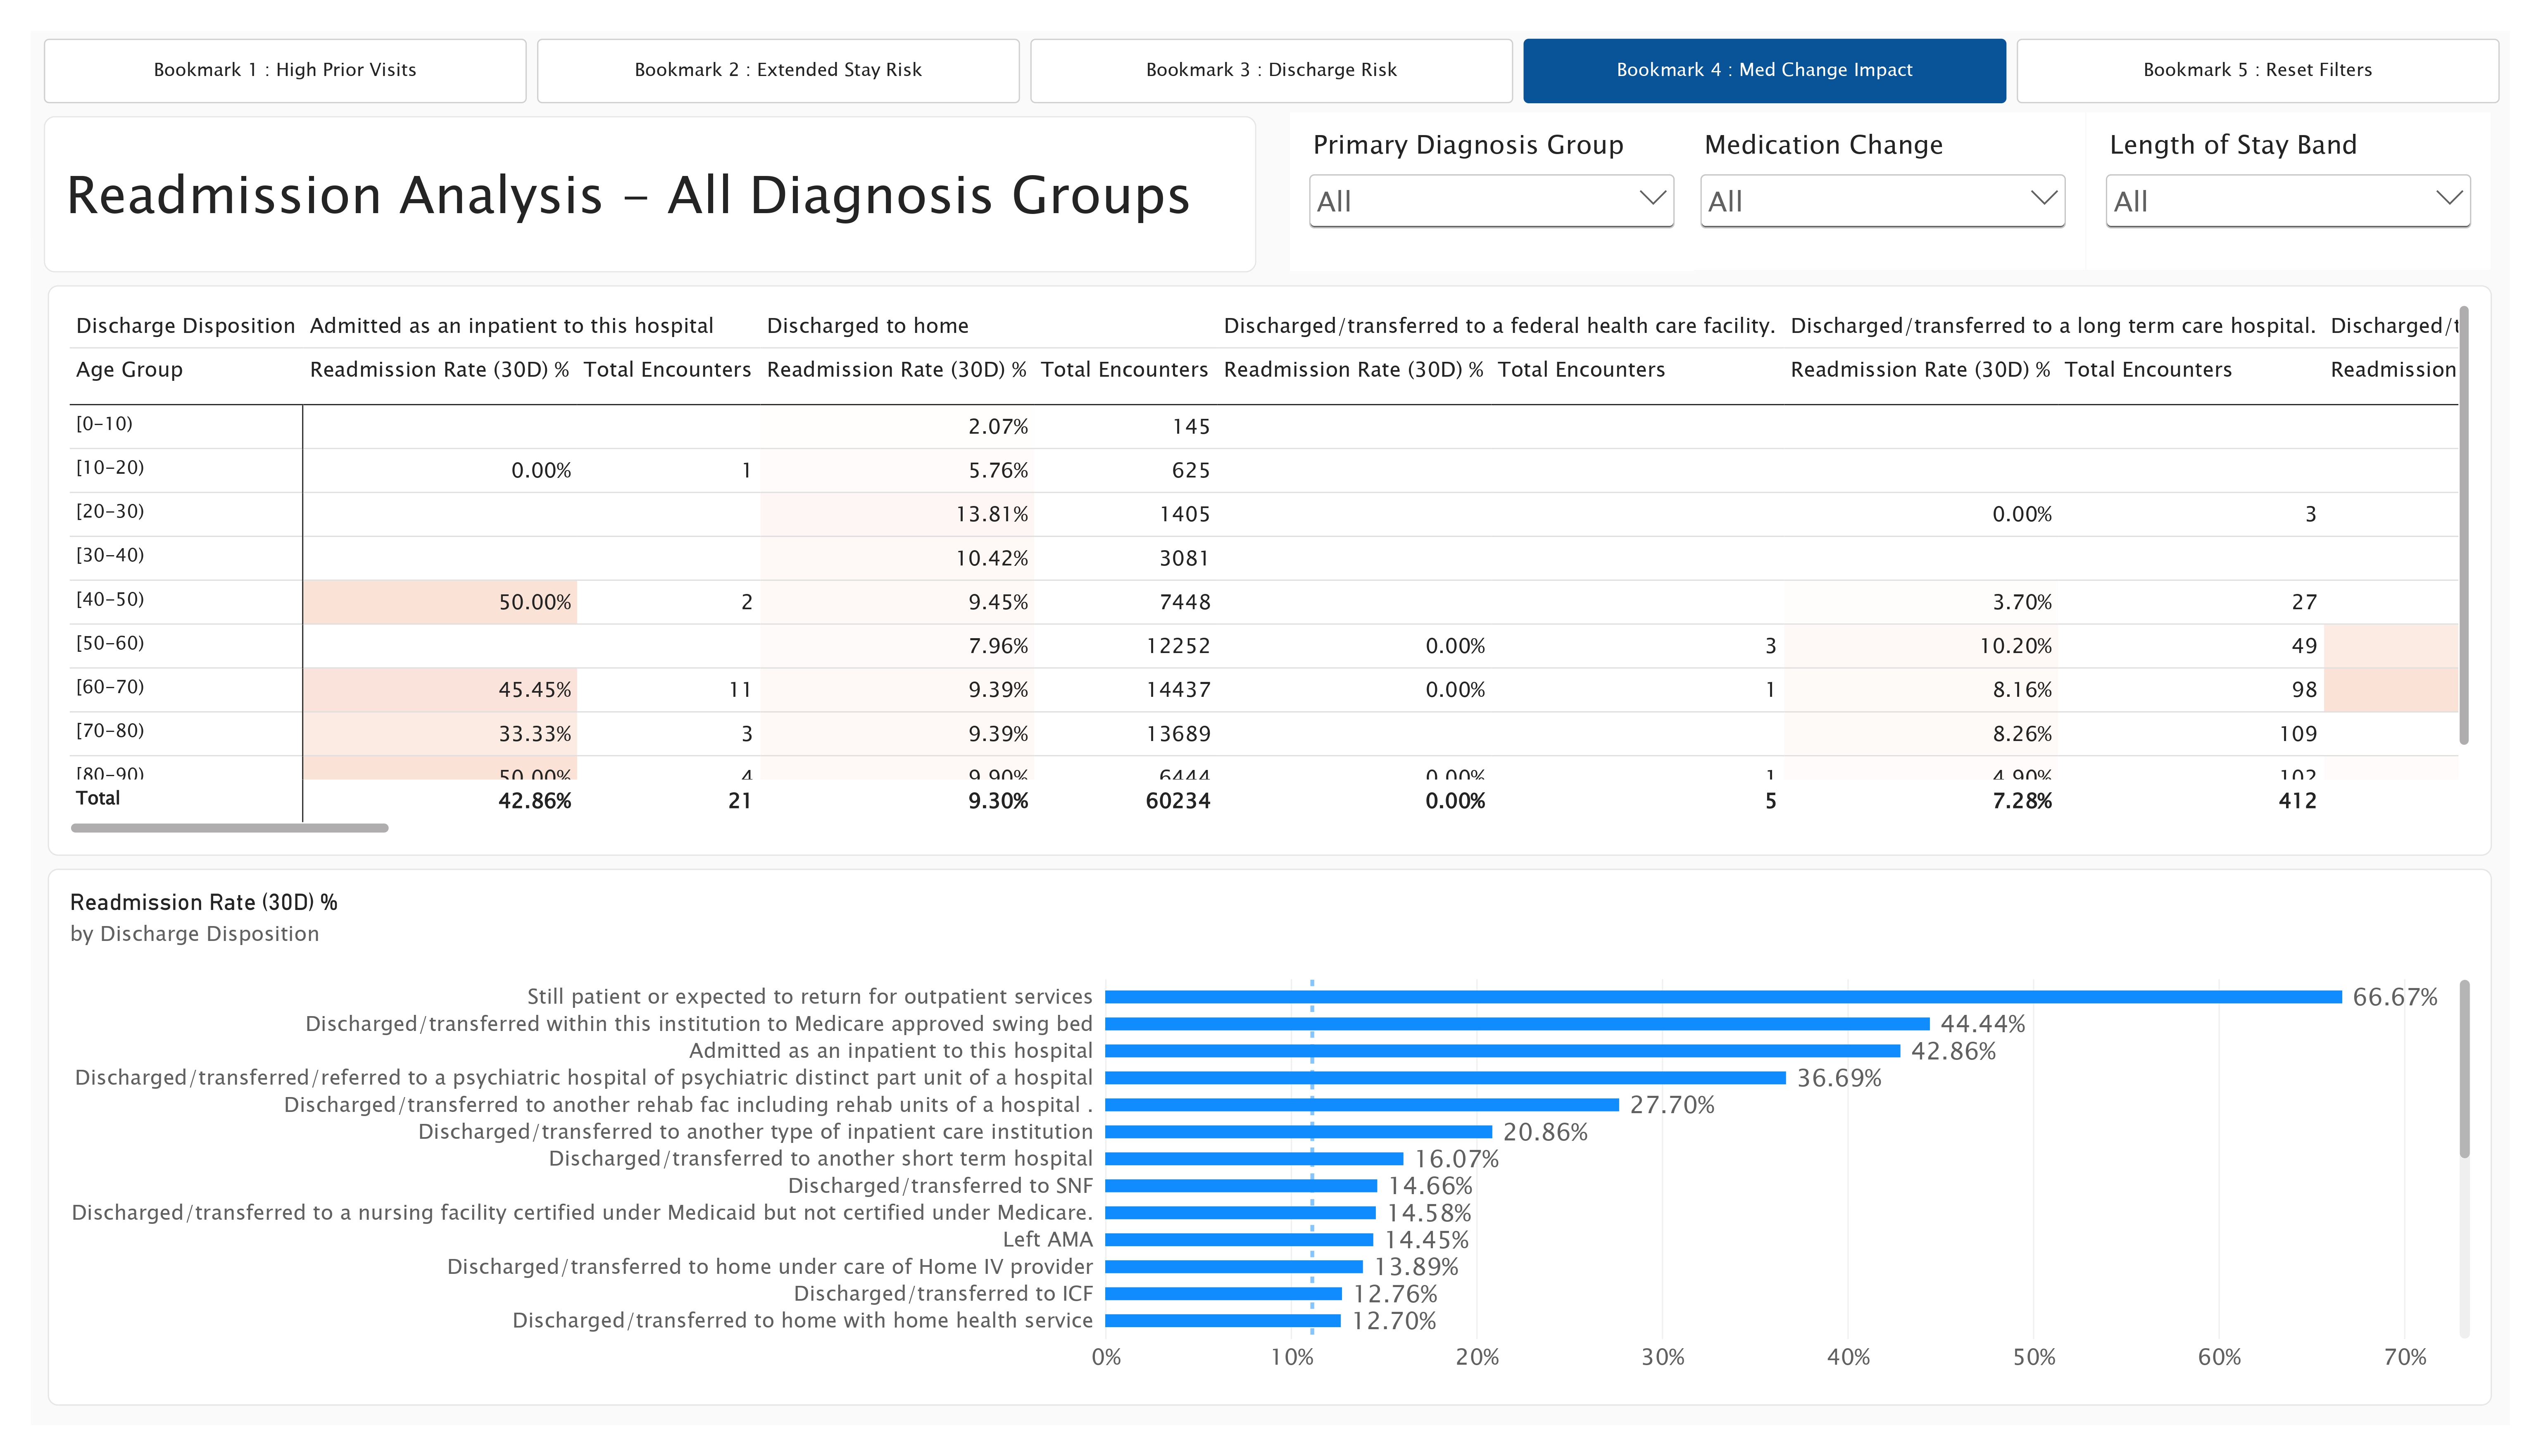

This screenshot's page, from the dashboard's own definition file:
{"tool":"powerbi","page":{"name":"Segments","canvas":[1920,1080],"ordinal":2},"visuals":[{"type":"cardVisual","fields":{"Data":["_Measures.Dynamic Title Diagnosis"]},"box":[0,55.5,959.5,141.5],"z":0,"group":"g1"},{"type":"group","id":"g1","title":"Group 2","box":[0,55.5,1905.6,1009.3],"z":0},{"type":"bookmarkNavigator","box":[10.3,6.2,1903.6,49.3],"z":1000},{"type":"group","id":"g2","title":"Group 1","box":[974.8,62.7,930.8,123.2],"z":1000,"group":"g1"},{"type":"slicer","fields":{"Values":["Fact_Encounters.Primary Diagnosis Group"]},"box":[974.8,63.1,312.7,122.2],"z":1000,"group":"g2"},{"type":"slicer","fields":{"Values":["Fact_Encounters.Change"]},"box":[1278.3,62.7,312.7,122.2],"z":2000,"group":"g2"},{"type":"pivotTable","fields":{"Columns":["Dim_DischargeDisposition.Discharge Disposition"],"Rows":["Fact_Encounters.Age Group"],"Values":["_Measures.Readmission Rate (30D) %","_Measures.Total Encounters"]},"box":[13.4,196.8,1892.2,442.2],"z":2000,"group":"g1"},{"type":"slicer","fields":{"Values":["Fact_Encounters.Length of Stay Band"]},"box":[1591.7,62.7,312.7,122.2],"z":3000,"group":"g2"},{"type":"clusteredBarChart","title":"Readmission Rate (30D) %","fields":{"Category":["Dim_DischargeDisposition.Discharge Disposition"],"Y":["_Measures.Readmission Rate (30D) %"]},"box":[13.4,648.1,1892.2,416.8],"z":3000,"group":"g1"}]}

Visuals, with their boxes on the page's 1920x1080 design canvas (x1, y1, x2, y2). These are canvas units, not pixel positions in the 2541x1456 screenshot, which may show the page scaled, cropped or inside an application window:
cardVisual - _Measures.Dynamic Title Diagnosis: BBox(0, 56, 960, 197)
"Group 2" group: BBox(0, 56, 1906, 1065)
bookmarkNavigator: BBox(10, 6, 1914, 56)
"Group 1" group: BBox(975, 63, 1906, 186)
slicer - Fact_Encounters.Primary Diagnosis Group: BBox(975, 63, 1288, 185)
slicer - Fact_Encounters.Change: BBox(1278, 63, 1591, 185)
pivotTable - Dim_DischargeDisposition.Discharge Disposition x Fact_Encounters.Age Group: BBox(13, 197, 1906, 639)
slicer - Fact_Encounters.Length of Stay Band: BBox(1592, 63, 1904, 185)
"Readmission Rate (30D) %" clusteredBarChart: BBox(13, 648, 1906, 1065)
